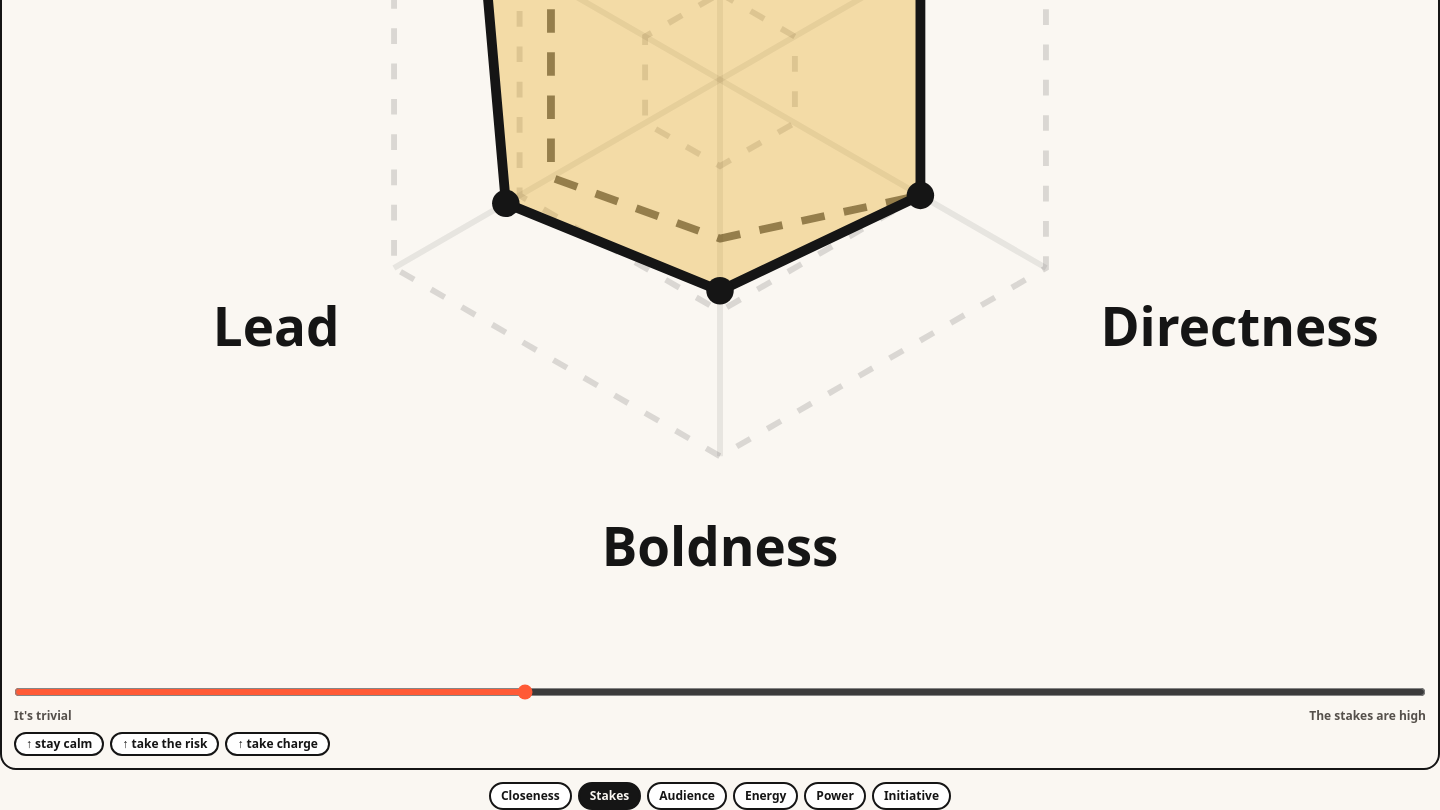
Test: SignatureGem › switches the morph to another situation
(page scrolled)
Step 1. Click the button "Closeness" → (530, 796), box [489,782,572,809]
(page scrolled)
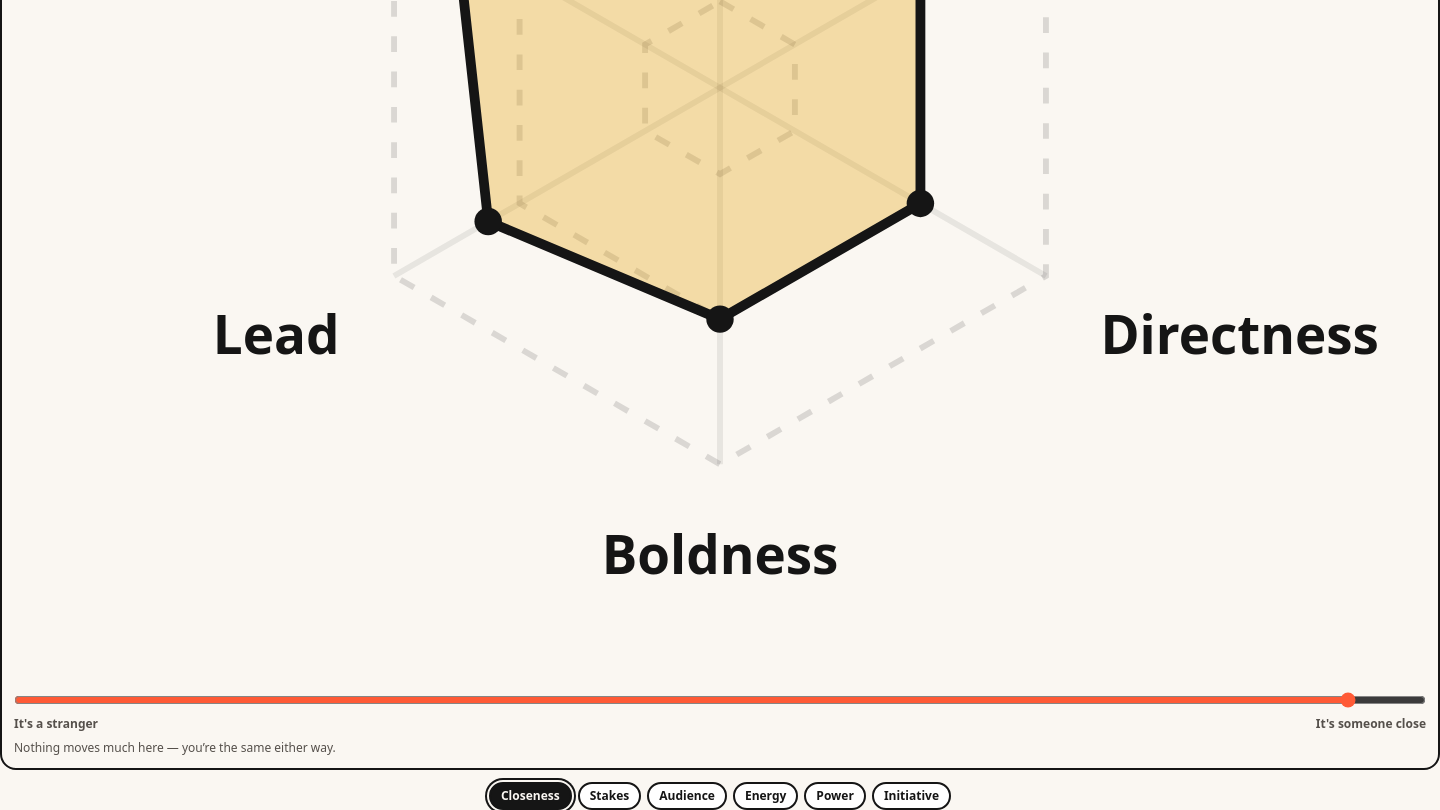
Check: the text "Nothing moves much here — you’re the same either way." is shown, box [14,739,336,756]
